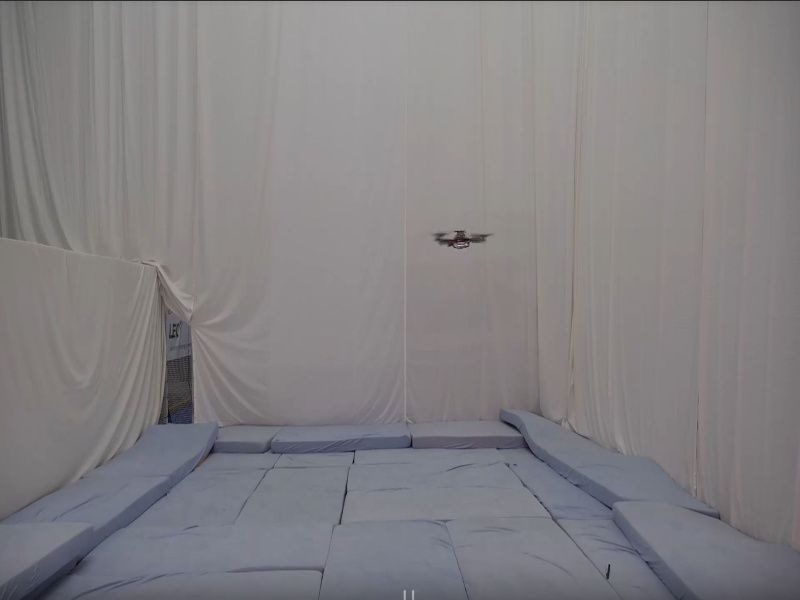drone: (426, 227, 496, 251)
